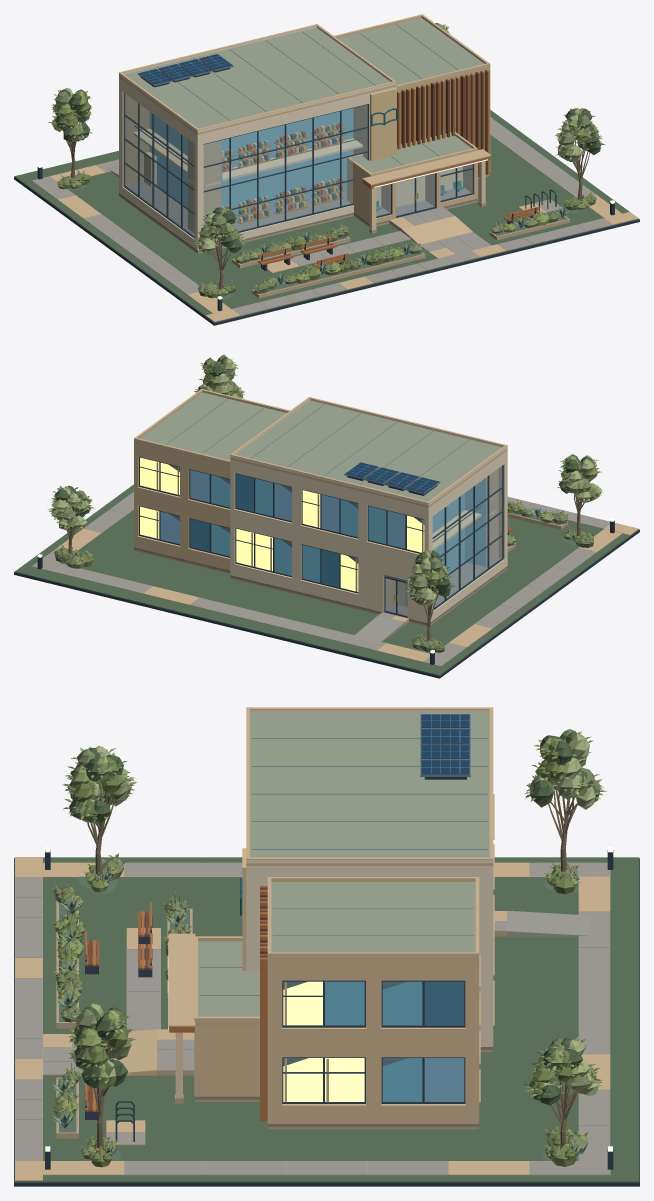
Rendered from biblioteca.fbx.
3 renders of one model, top to bottom at view 1: azimuth 30°, elevation 25°; view 2: azimuth 150°, elevation 25°; view 3: azimuth 270°, elevation 25°, orthographic. The views are drawn at different scales.
Visible parts, largest first — view 1: Marquesinas, Muros, Cristales transparentes, Islas de plantacion, Senderos y explanadas, Remates minerales, Equipamiento de fachada, Setos y herbaceas, Marcos y lamas, Piedra y bordillos, Arbol 59, Arbol 56 (+2 smaller); view 2: Muros, Islas de plantacion, Marquesinas, Acristalamiento opaco, Senderos y explanadas, Cristales transparentes, Marcos y lamas, Piedra y bordillos, Remates minerales, Equipamiento de fachada, Setos y herbaceas, Arbol 56 (+3 smaller); view 3: Islas de plantacion, Marquesinas, Senderos y explanadas, Muros, Acristalamiento opaco, Setos y herbaceas, Remates minerales, Arbol 56, Piedra y bordillos, Arbol 59, Arbol 58, Arbol 57 (+3 smaller).
Part boxes in pixels (x1,y1,x2,y2): Marquesinas: [118, 14, 491, 188]; Muros: [119, 68, 490, 250]; Cristales transparentes: [125, 94, 472, 236]; Islas de plantacion: [14, 110, 639, 322]; Senderos y explanadas: [32, 117, 638, 322]; Remates minerales: [119, 69, 490, 253]; Equipamiento de fachada: [133, 54, 463, 225]; Setos y herbaceas: [57, 169, 596, 298]; Marcos y lamas: [123, 92, 473, 238]; Piedra y bordillos: [14, 176, 639, 325]; Arbol 59: [555, 108, 605, 200]; Arbol 56: [48, 88, 92, 178]; Muros: [134, 443, 507, 622]; Islas de plantacion: [14, 484, 639, 675]; Marquesinas: [134, 389, 507, 507]; Acristalamiento opaco: [140, 457, 424, 591]; Senderos y explanadas: [31, 492, 638, 666]; Cristales transparentes: [385, 466, 502, 615]; Marcos y lamas: [139, 457, 503, 617]; Piedra y bordillos: [14, 513, 639, 678]; Remates minerales: [134, 487, 507, 626]; Equipamiento de fachada: [344, 462, 495, 550]; Setos y herbaceas: [52, 499, 594, 652]; Arbol 56: [406, 550, 454, 640]; Islas de plantacion: [14, 857, 639, 1182]; Marquesinas: [168, 707, 493, 1032]; Senderos y explanadas: [15, 857, 610, 1181]; Muros: [194, 866, 493, 1123]; Acristalamiento opaco: [283, 981, 464, 1101]; Setos y herbaceas: [51, 853, 588, 1167]; Remates minerales: [175, 794, 494, 1129]; Arbol 56: [524, 729, 606, 871]; Piedra y bordillos: [14, 858, 639, 1186]; Arbol 59: [68, 1003, 135, 1150]; Arbol 58: [62, 745, 136, 876]; Arbol 57: [522, 1036, 603, 1145].
Size of the model in its own units: 27 by 7.81 by 22.
